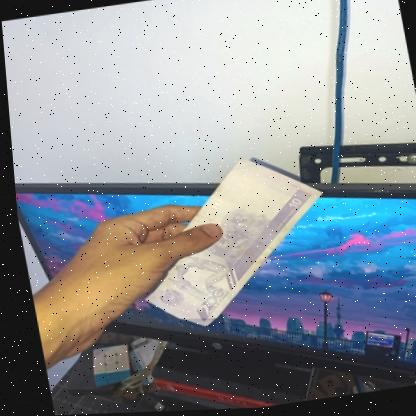ten-back-vef: (115, 149, 338, 336)
